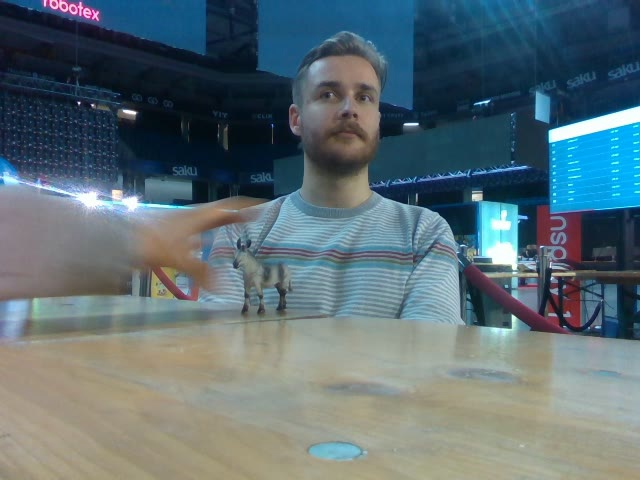toy: (231, 236, 294, 315)
